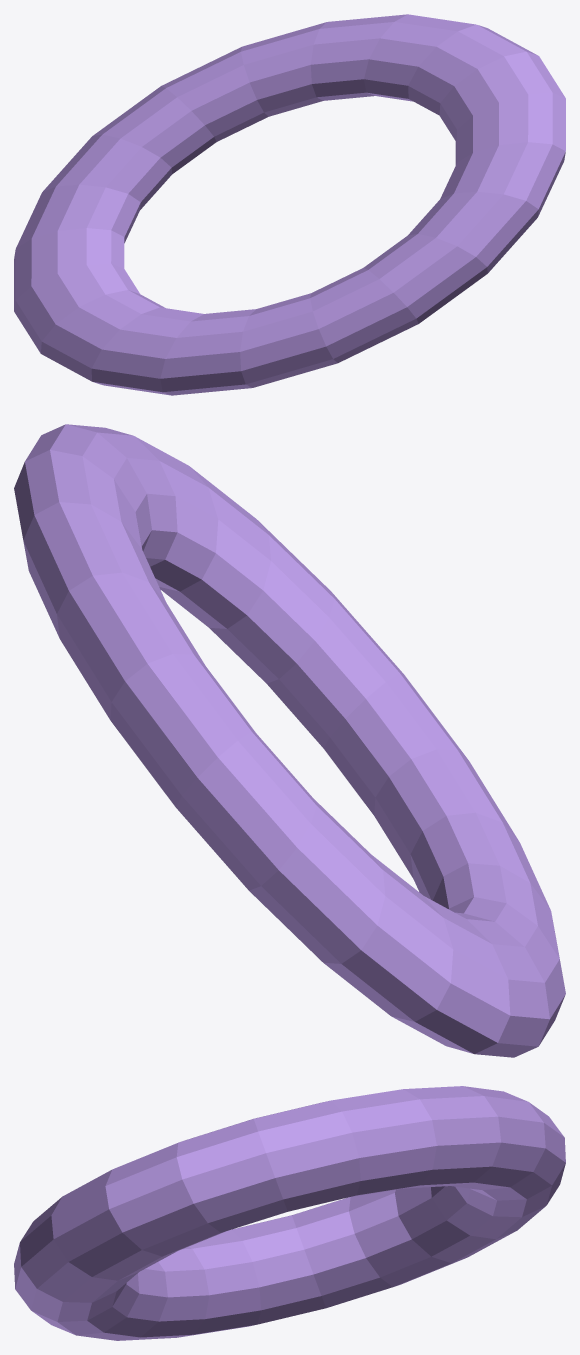
File: practice.glb
3 views of the same model, one above another, from view 1: azimuth 30°, elevation 25°; view 2: azimuth 150°, elevation 25°; view 3: azimuth 270°, elevation 25° (orthographic). The views are drawn at different scales.
Parts seen in each view (by area): view 1: Torus.001; view 2: Torus.001; view 3: Torus.001.
Boxes of the visible parts, x1,y1,x2,y2 form: Torus.001: (14,14,565,395); Torus.001: (14,424,565,1057); Torus.001: (14,1086,565,1340).
Size of the model in its own units: 3.27 by 2.15 by 2.74.
